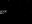person: (1, 8, 6, 13)
